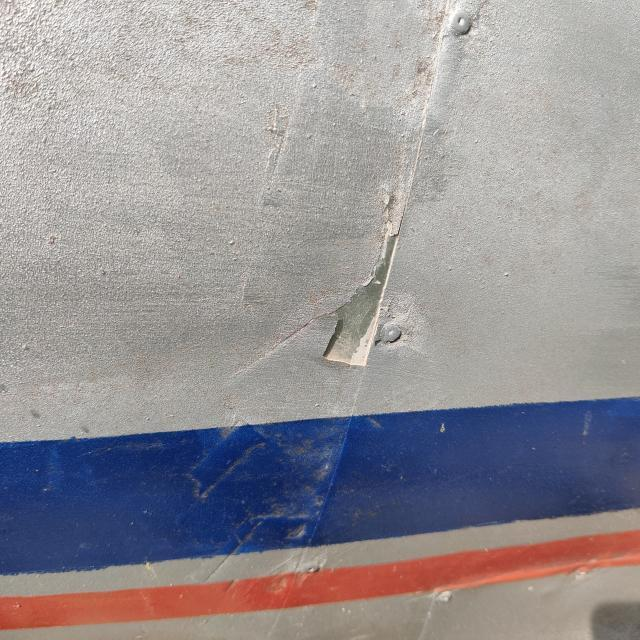Paint-off: (324, 234, 398, 366)
